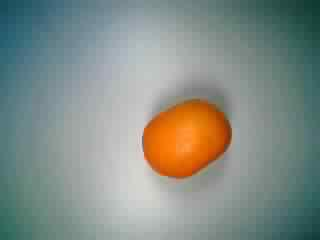orange: (140, 95, 233, 178)
